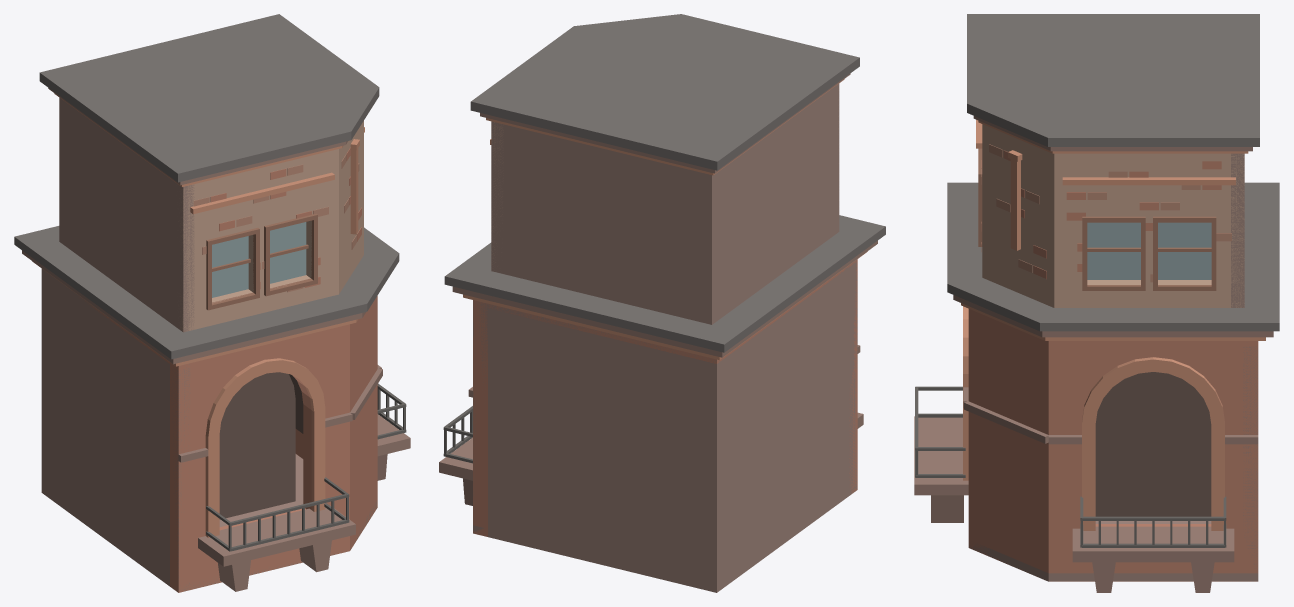
File: huangpu-yuanfang-lane-railway-corner-lod.glb
The picture shows the model from 3 angles, left to right: view 1: azimuth 30°, elevation 25°; view 2: azimuth 150°, elevation 25°; view 3: azimuth 270°, elevation 25°; orthographic projection. The views are drawn at different scales.
Visible parts, largest first — view 1: 元芳弄原沪宁铁路局东南角塔楼; view 2: 元芳弄原沪宁铁路局东南角塔楼; view 3: 元芳弄原沪宁铁路局东南角塔楼.
Boxes of the visible parts, left/top/right/bottom form: 元芳弄原沪宁铁路局东南角塔楼: left=14, top=14, right=410, bottom=592; 元芳弄原沪宁铁路局东南角塔楼: left=439, top=14, right=885, bottom=592; 元芳弄原沪宁铁路局东南角塔楼: left=914, top=14, right=1279, bottom=592.
Size of the model in its own units: 4.29 by 5.76 by 4.29.
